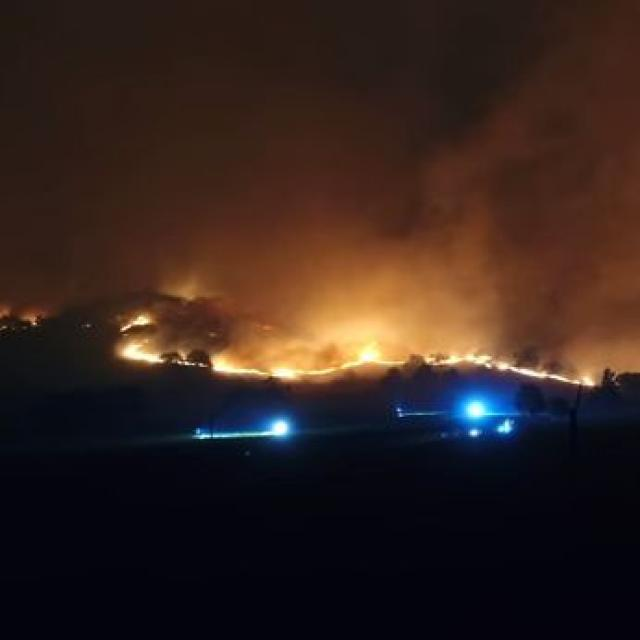Fire: (103, 334, 609, 393)
Smoke: (0, 42, 633, 356)
